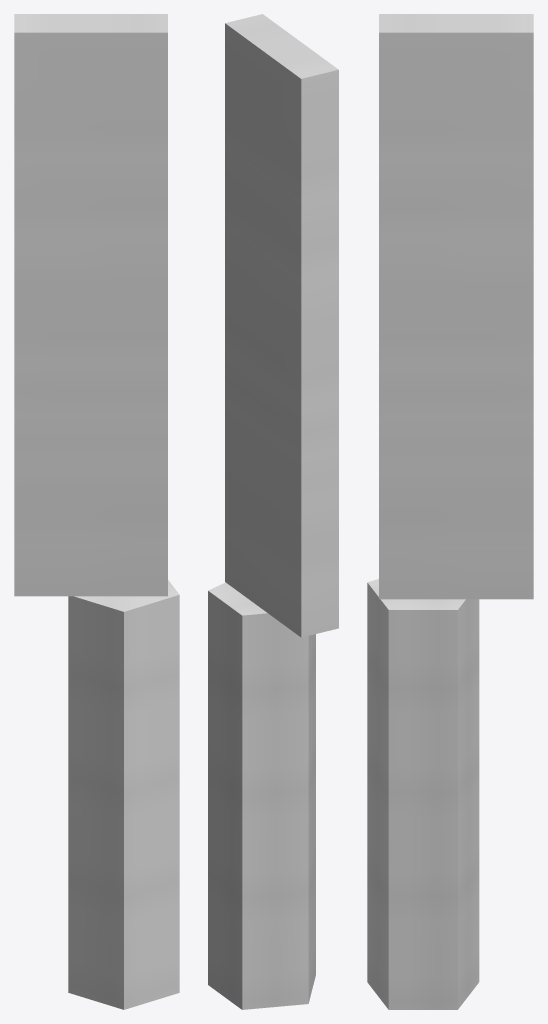
Rendered from tool_knife.obj.
The picture shows the model from 3 angles, left to right: view 1: azimuth 90°, elevation 25°; view 2: azimuth 210°, elevation 25°; view 3: azimuth 270°, elevation 25°; orthographic projection.
Parts seen in each view (by area): view 1: tool_knife; view 2: tool_knife; view 3: tool_knife.
Part boxes in pixels (left/top/right/bottom): tool_knife: left=14, top=14, right=179, bottom=1009; tool_knife: left=208, top=14, right=338, bottom=1009; tool_knife: left=367, top=14, right=533, bottom=1009.
Size of the model in its own units: 0.0289 by 0.29 by 0.0452.
